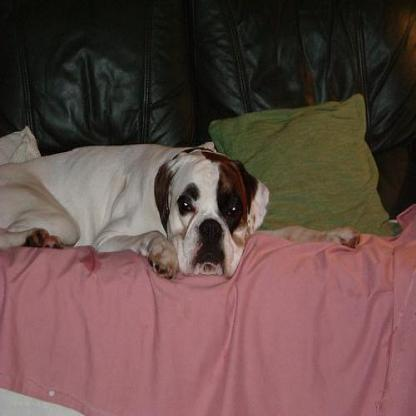boxer: (0, 144, 268, 278)
